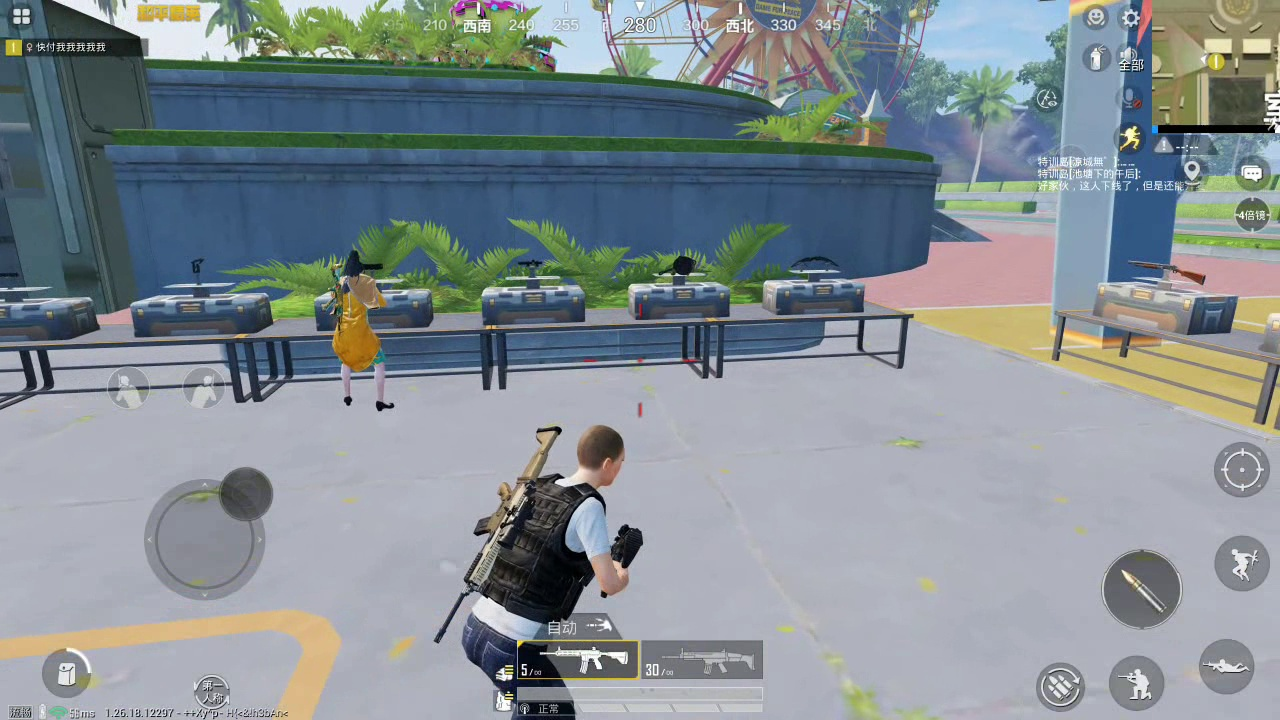enemy: (329, 249, 395, 405)
